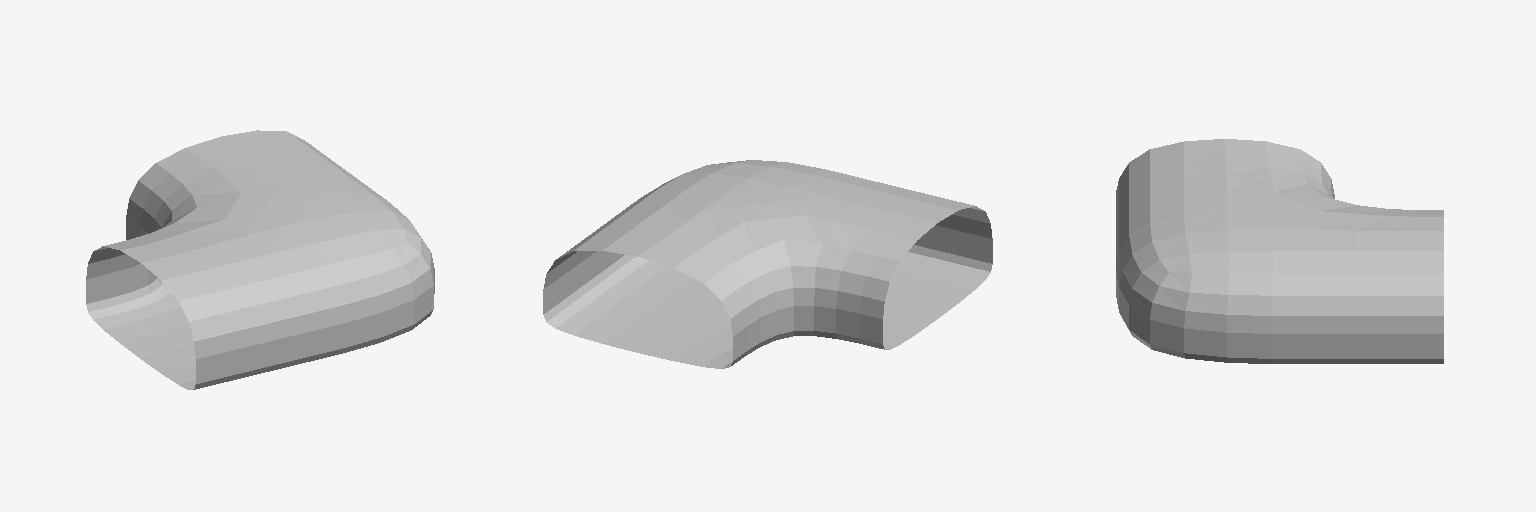
Rendered from body_corner.obj.
3 views of the same model, side by side, from view 1: azimuth 30°, elevation 25°; view 2: azimuth 150°, elevation 25°; view 3: azimuth 270°, elevation 25° (orthographic).
Visible parts, largest first — view 1: Body_Corner_Cube.004; view 2: Body_Corner_Cube.004; view 3: Body_Corner_Cube.004.
Boxes of the visible parts, x1,y1,x2,y2 form: Body_Corner_Cube.004: [86, 130, 434, 389]; Body_Corner_Cube.004: [543, 160, 992, 368]; Body_Corner_Cube.004: [1116, 139, 1443, 363].
Bounding box in the file's own units: 0.75 × 0.245 × 0.75.